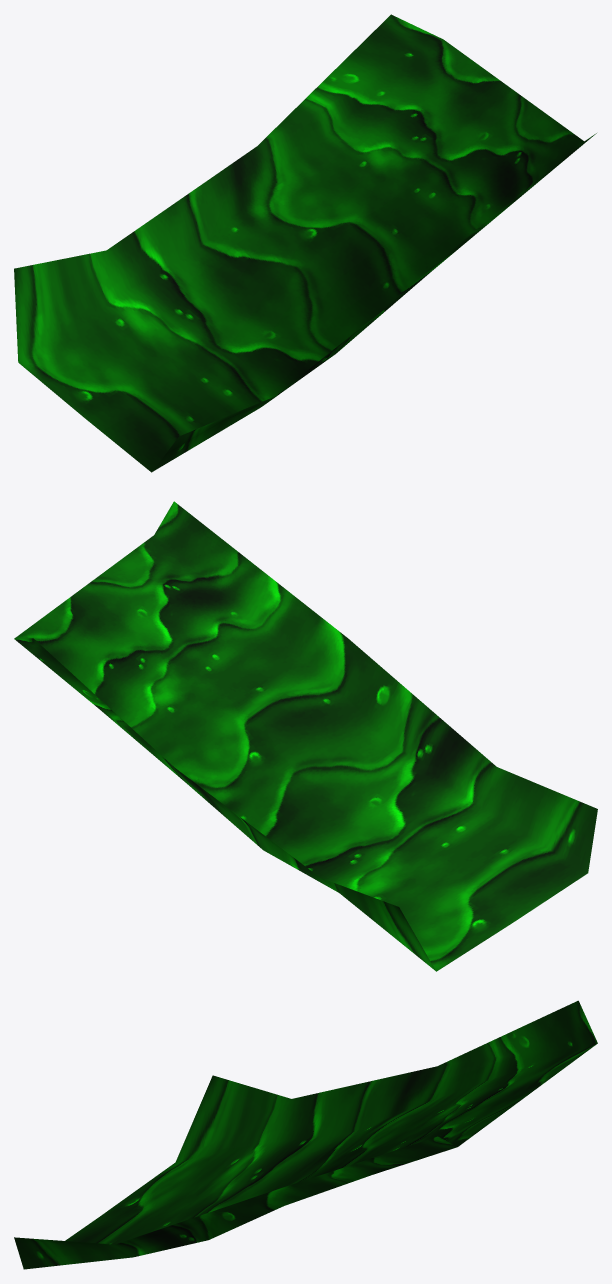
The model's file is MIRKWOOD_SLIMEFLOOR.fbx.
The picture shows the model from 3 angles, top to bottom: view 1: azimuth 30°, elevation 25°; view 2: azimuth 150°, elevation 25°; view 3: azimuth 330°, elevation 25°; orthographic projection.
Visible parts, largest first — view 1: MIRKWOOD_SLIMEFLOOR; view 2: MIRKWOOD_SLIMEFLOOR; view 3: MIRKWOOD_SLIMEFLOOR.
Part boxes in pixels (left/top/right/bottom): MIRKWOOD_SLIMEFLOOR: left=14, top=14, right=596, bottom=472; MIRKWOOD_SLIMEFLOOR: left=14, top=501, right=597, bottom=971; MIRKWOOD_SLIMEFLOOR: left=14, top=1000, right=597, bottom=1269.
Bounding box in the file's own units: 64729 × 35825 × 47738.
1 material, 1 textured.
